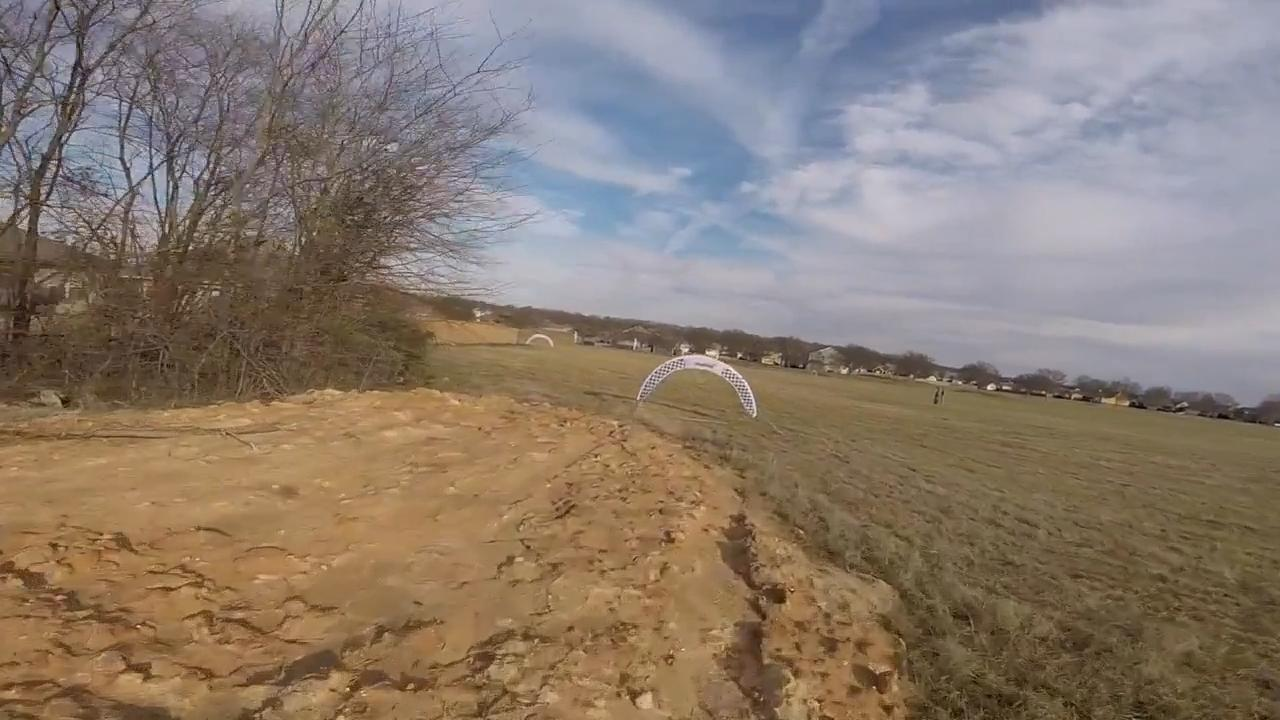gate: (634, 355, 758, 418)
